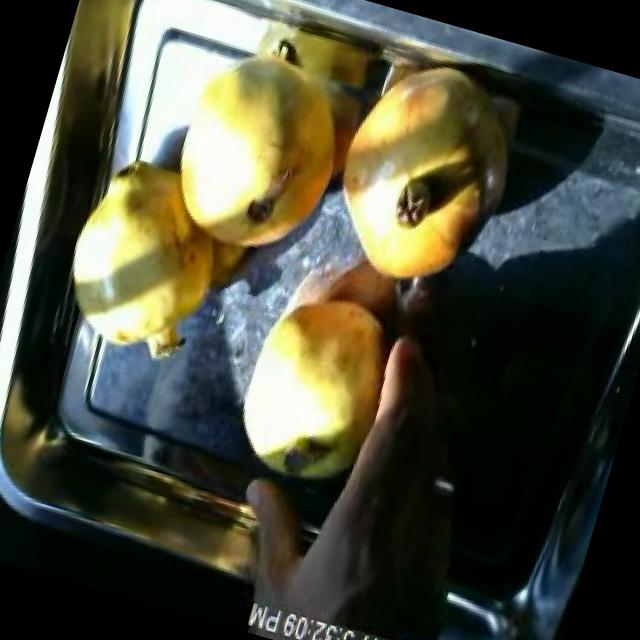fruit: (300, 32, 540, 328), (141, 0, 379, 286), (209, 261, 422, 513), (45, 136, 258, 379)
